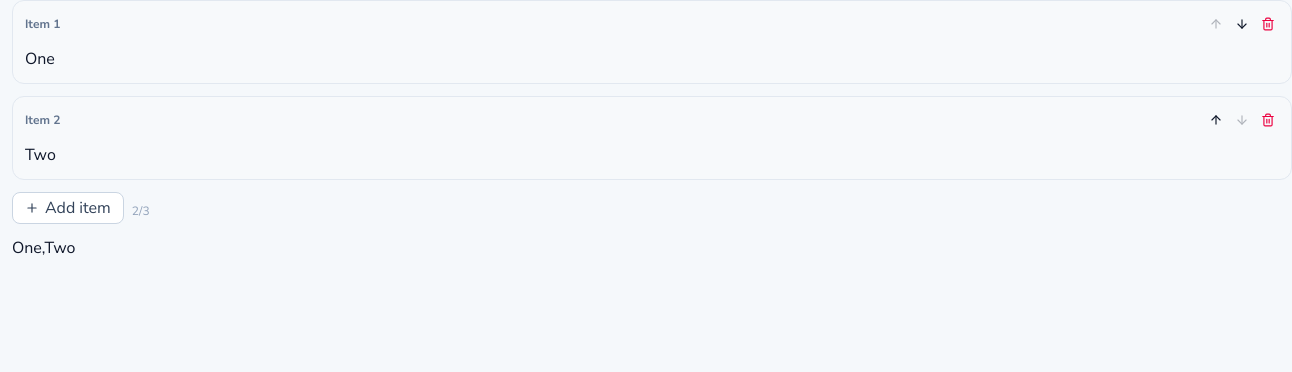
Test: Article Sections editor › adds, removes and moves repeaters with stable controls and a maximum
What coordinates should you click on to do the following:
click the 1st button named "Move item down"
I would click on:
 (1242, 24)
Its box is [1231,13,1253,35].
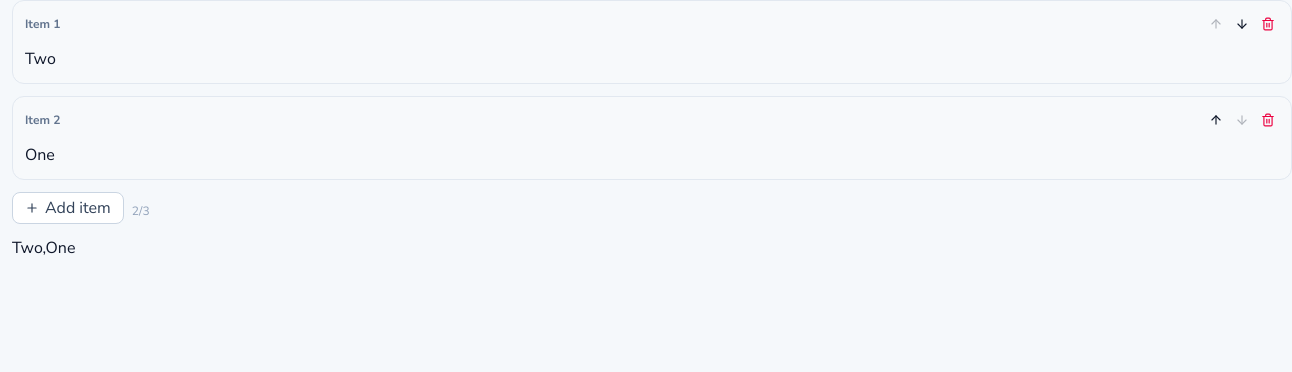
Check: the text "Two,One" is shown, box [12,237,75,259]
What coordinates should you click on to do the following:
click the button "Add item"
I would click on:
 (68, 208)
Its box is [12,192,124,224].
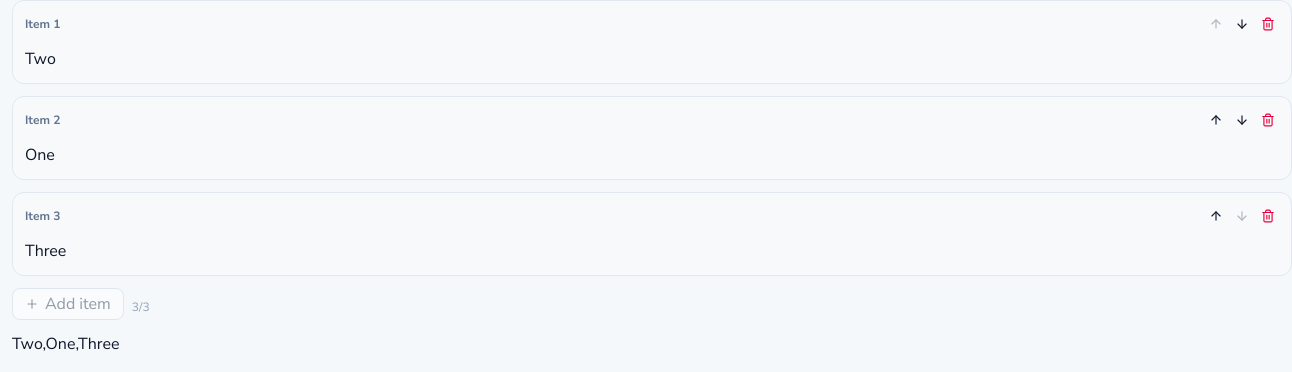
Check: the text "Two,One,Three" is shown, box [12,333,120,355]
Check: the button "Add item" is disabled, box [12,288,124,320]
What coordinates should you click on to do the following:
click the 2nd button named "Remove item"
I would click on:
 (1268, 120)
Its box is [1257,109,1279,131].
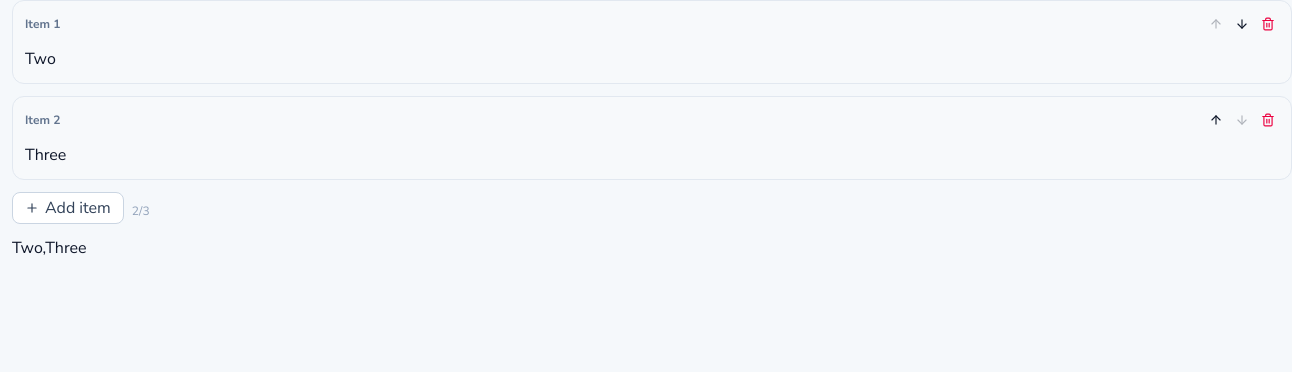
Check: the text "Two,Three" is shown, box [12,237,86,259]
